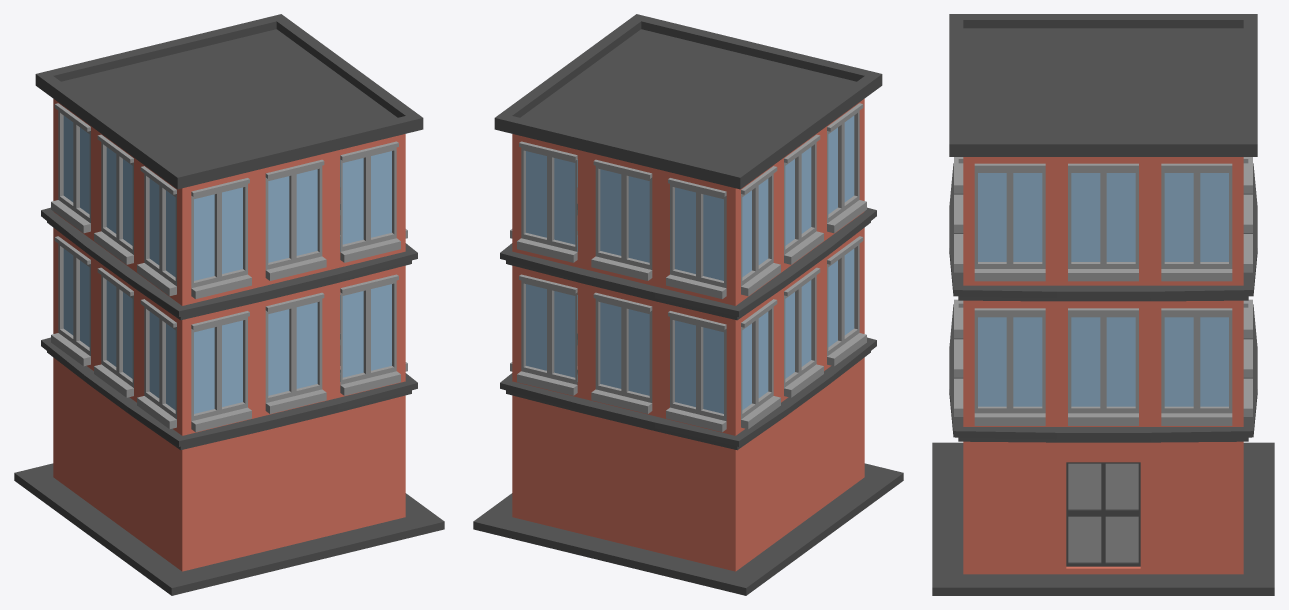
The model's file is buildingv1__city_oldenburg.fbx.
3 renders of one model, left to right at view 1: azimuth 30°, elevation 25°; view 2: azimuth 150°, elevation 25°; view 3: azimuth 270°, elevation 25°, orthographic. The views are drawn at different scales.
Visible parts, largest first — view 1: Cube.009; view 2: Cube.009; view 3: Cube.009.
Boxes of the visible parts, box(x1,y1,x2,y2) form: Cube.009: box(14, 14, 444, 595); Cube.009: box(473, 14, 903, 595); Cube.009: box(932, 14, 1274, 595).
Size of the model in its own units: 73.31 by 105 by 73.31.
